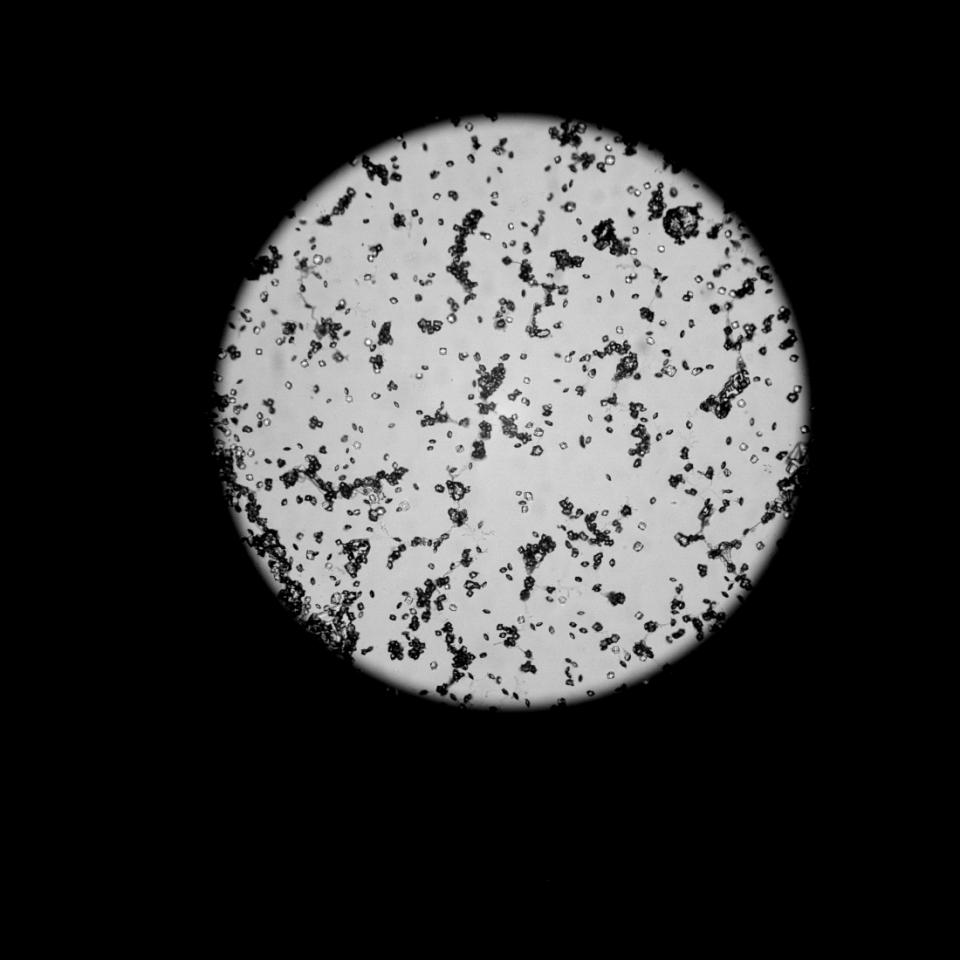crystal: (515, 588, 534, 602), (748, 454, 766, 468), (529, 444, 545, 459), (632, 540, 647, 554), (661, 366, 679, 377), (501, 254, 515, 268), (635, 519, 650, 532), (533, 428, 548, 441), (619, 503, 632, 518), (564, 200, 579, 213), (587, 414, 600, 427), (284, 380, 298, 392), (312, 254, 324, 268), (752, 540, 768, 550), (683, 461, 696, 473), (684, 419, 697, 431), (588, 367, 600, 380), (708, 303, 720, 316), (705, 280, 717, 293), (342, 328, 355, 340), (443, 430, 457, 441), (398, 501, 412, 512), (591, 621, 605, 632), (386, 294, 400, 305), (603, 143, 617, 154), (775, 450, 790, 460), (562, 297, 572, 312), (368, 588, 378, 603), (446, 190, 461, 200), (464, 120, 476, 132), (433, 483, 446, 494), (575, 218, 586, 231), (625, 207, 636, 220), (735, 399, 749, 409), (747, 415, 757, 429), (414, 372, 428, 382), (788, 392, 798, 406), (489, 190, 503, 200), (436, 217, 446, 231), (428, 170, 442, 180), (571, 547, 580, 562), (648, 495, 660, 506), (632, 457, 644, 468), (558, 441, 570, 452), (607, 558, 619, 569), (391, 400, 403, 411), (308, 576, 320, 587), (445, 313, 457, 324), (471, 352, 483, 363), (669, 188, 680, 200), (444, 159, 456, 170), (507, 150, 518, 162), (345, 185, 357, 196), (400, 139, 412, 150), (463, 692, 474, 704), (231, 404, 243, 415), (605, 154, 617, 165), (411, 480, 421, 493), (582, 272, 595, 282), (452, 301, 462, 314), (306, 234, 319, 244), (455, 445, 466, 456), (524, 491, 535, 502), (496, 319, 507, 330), (716, 285, 727, 296), (537, 207, 548, 218), (552, 154, 563, 165), (604, 426, 616, 436), (798, 423, 808, 435), (517, 614, 527, 626), (275, 458, 287, 468), (524, 648, 534, 660), (556, 594, 566, 606), (579, 530, 589, 542), (692, 366, 704, 376), (375, 506, 387, 516), (332, 353, 344, 363), (302, 300, 314, 310), (545, 193, 555, 205), (431, 190, 441, 202), (481, 580, 491, 592), (495, 165, 507, 175), (544, 165, 554, 177), (464, 155, 476, 165), (448, 692, 460, 702), (661, 348, 674, 357), (368, 509, 377, 522), (537, 328, 550, 337), (578, 561, 592, 569), (579, 434, 586, 450), (438, 346, 449, 356), (547, 584, 558, 594), (634, 610, 644, 621), (305, 550, 316, 560), (600, 508, 611, 518), (425, 443, 436, 453), (514, 441, 525, 451), (505, 300, 516, 310), (722, 301, 733, 311), (693, 274, 704, 284), (656, 244, 667, 254), (352, 440, 363, 450), (253, 326, 264, 336), (270, 278, 281, 288), (361, 273, 372, 283), (557, 284, 568, 294), (633, 258, 643, 269), (536, 214, 546, 225), (299, 216, 310, 226), (421, 142, 432, 152), (568, 164, 578, 175), (468, 570, 480, 579), (603, 414, 615, 423), (681, 360, 690, 372), (382, 452, 391, 464), (390, 172, 402, 181), (471, 131, 480, 143), (261, 290, 269, 303), (761, 445, 771, 455), (769, 421, 779, 431), (756, 430, 766, 440), (723, 468, 733, 478), (318, 445, 328, 455), (620, 660, 630, 670), (294, 495, 304, 505), (263, 484, 273, 494), (298, 359, 308, 369), (318, 359, 328, 369), (731, 320, 741, 330), (757, 346, 767, 356), (298, 283, 308, 293), (489, 198, 499, 208), (390, 271, 400, 281), (427, 271, 437, 281), (728, 582, 737, 593), (724, 436, 733, 447), (521, 506, 532, 515), (574, 575, 585, 584), (291, 541, 300, 552), (254, 480, 265, 489), (429, 662, 440, 671), (610, 633, 621, 642), (310, 384, 321, 393), (506, 222, 515, 233), (388, 154, 399, 163), (720, 590, 732, 598), (370, 392, 382, 400), (606, 670, 618, 678), (364, 526, 376, 534), (263, 478, 275, 486), (447, 604, 459, 612), (506, 562, 514, 574), (564, 540, 572, 552), (241, 425, 253, 433), (762, 288, 774, 296), (542, 410, 554, 418), (498, 351, 511, 358), (722, 489, 735, 496), (669, 609, 682, 616), (605, 472, 614, 482), (738, 443, 748, 452), (421, 364, 431, 373), (515, 545, 525, 554), (482, 633, 492, 642), (434, 629, 443, 639), (465, 590, 475, 599), (666, 428, 676, 437), (654, 371, 664, 380), (244, 472, 253, 482), (495, 311, 505, 320), (788, 353, 798, 362), (356, 602, 366, 611), (254, 346, 263, 356), (519, 220, 528, 230), (635, 188, 644, 198), (566, 179, 575, 189), (586, 436, 594, 447), (548, 625, 556, 636), (282, 497, 290, 508), (561, 387, 572, 395), (512, 412, 520, 423), (415, 408, 426, 416), (523, 376, 531, 387), (418, 688, 429, 696), (264, 417, 272, 428), (725, 229, 733, 240), (448, 466, 459, 474), (342, 463, 353, 471), (545, 272, 556, 280), (531, 226, 539, 237), (544, 420, 555, 428), (339, 436, 351, 443), (552, 377, 564, 384), (412, 294, 424, 301), (390, 162, 402, 169), (352, 508, 361, 517), (522, 698, 531, 707), (703, 497, 712, 506), (275, 338, 284, 347), (427, 561, 436, 570), (364, 192, 373, 201), (499, 137, 508, 146), (693, 183, 702, 192), (720, 460, 728, 470), (515, 491, 525, 499), (569, 631, 577, 641), (612, 645, 620, 655), (624, 652, 632, 662), (666, 635, 674, 645), (304, 494, 314, 502), (344, 523, 354, 531), (296, 564, 306, 572), (528, 622, 536, 632), (794, 384, 802, 394), (656, 433, 664, 443), (717, 506, 727, 514), (519, 351, 527, 361), (629, 292, 639, 300), (644, 338, 654, 346), (658, 320, 668, 328), (660, 276, 670, 284), (629, 247, 639, 255), (478, 520, 486, 530), (388, 422, 398, 430), (354, 578, 362, 588), (628, 272, 638, 280), (367, 254, 375, 264), (388, 201, 396, 211), (229, 397, 239, 405), (594, 136, 604, 144), (391, 537, 404, 543), (578, 627, 589, 634), (567, 622, 578, 629), (576, 610, 587, 617), (705, 363, 716, 370), (640, 416, 651, 423), (333, 538, 344, 545), (643, 181, 650, 192), (421, 235, 428, 246), (723, 574, 731, 583), (532, 531, 540, 540), (571, 661, 580, 669), (669, 618, 677, 627), (498, 566, 507, 574), (479, 651, 487, 660), (405, 597, 413, 606), (554, 352, 563, 360), (487, 672, 496, 680), (512, 691, 520, 700), (388, 614, 397, 622), (256, 420, 264, 429), (256, 411, 264, 420), (282, 445, 291, 453), (506, 316, 515, 324), (498, 297, 506, 306), (614, 325, 626, 331), (764, 378, 772, 387), (632, 226, 640, 235), (347, 456, 356, 464), (364, 338, 372, 347), (292, 250, 301, 258), (475, 544, 482, 554), (679, 329, 686, 339), (688, 318, 695, 328), (458, 352, 465, 362), (424, 280, 434, 287), (362, 217, 372, 224), (294, 229, 304, 236), (228, 387, 238, 394), (518, 500, 529, 506), (520, 288, 526, 299), (546, 596, 554, 604), (346, 509, 354, 517), (312, 550, 320, 558), (325, 562, 333, 570), (409, 608, 417, 616), (564, 355, 572, 363), (634, 372, 642, 380), (264, 457, 272, 465), (329, 340, 337, 348), (326, 397, 334, 405), (509, 240, 517, 248), (411, 208, 419, 216), (449, 562, 457, 570), (344, 306, 352, 314), (473, 142, 481, 150), (564, 657, 573, 664), (505, 575, 514, 582), (395, 601, 402, 610), (651, 411, 658, 420), (662, 357, 669, 366), (689, 487, 696, 496), (357, 611, 364, 620), (335, 579, 342, 588), (370, 344, 377, 353), (628, 185, 635, 194), (524, 399, 531, 408), (668, 576, 678, 582), (577, 674, 583, 684), (311, 497, 317, 507), (339, 474, 349, 480), (476, 314, 482, 324), (608, 287, 614, 297), (722, 264, 732, 270), (468, 462, 474, 472), (344, 445, 350, 455), (440, 533, 450, 539), (344, 388, 351, 396), (566, 679, 574, 686), (580, 364, 587, 372), (600, 400, 608, 407), (501, 688, 509, 695), (333, 464, 340, 472), (625, 276, 632, 284), (375, 243, 383, 250), (372, 250, 379, 258), (740, 496, 745, 507), (586, 691, 595, 697), (496, 676, 502, 685), (384, 498, 393, 504), (394, 487, 403, 493), (362, 498, 371, 504), (645, 330, 654, 336), (753, 376, 762, 382), (326, 552, 332, 561), (295, 532, 304, 538), (370, 320, 376, 329), (351, 423, 357, 432), (358, 425, 364, 434), (484, 232, 490, 241), (418, 217, 424, 226), (395, 507, 404, 513), (597, 162, 606, 168), (323, 279, 328, 289), (581, 232, 586, 242), (345, 396, 352, 403), (468, 393, 475, 400), (526, 420, 533, 427), (499, 307, 506, 314), (448, 298, 455, 305), (542, 404, 549, 411), (561, 184, 568, 191), (498, 632, 506, 638), (496, 624, 504, 630), (468, 671, 474, 679), (402, 612, 408, 620), (405, 634, 411, 642), (458, 634, 464, 642), (297, 442, 303, 450), (602, 335, 610, 341), (502, 242, 508, 250), (314, 272, 322, 278), (482, 609, 491, 614), (596, 295, 601, 304), (428, 438, 437, 443), (622, 237, 631, 242), (521, 396, 526, 405), (315, 602, 321, 609), (462, 352, 469, 358), (412, 274, 418, 281), (440, 401, 445, 409), (400, 631, 410, 635), (486, 176, 491, 184), (444, 584, 450, 590), (685, 489, 691, 495), (536, 622, 545, 626), (569, 350, 576, 355), (418, 279, 423, 286), (657, 181, 662, 187), (547, 402, 552, 408), (311, 244, 317, 249)
not_crystal: (446, 260, 482, 300), (718, 368, 745, 418), (451, 208, 476, 262), (317, 196, 350, 225), (363, 156, 388, 186), (482, 367, 506, 395), (319, 481, 354, 499), (313, 320, 341, 340), (524, 542, 540, 576), (648, 190, 664, 219), (416, 581, 432, 609), (415, 318, 442, 334), (304, 455, 320, 481), (280, 471, 302, 488), (454, 649, 471, 667), (472, 439, 488, 458), (478, 419, 492, 440), (378, 322, 391, 344), (444, 621, 455, 647), (389, 640, 403, 660), (696, 504, 712, 521), (427, 411, 447, 423), (476, 402, 495, 414), (608, 593, 626, 604), (308, 416, 324, 428), (394, 212, 406, 228), (687, 533, 708, 542), (281, 322, 297, 333), (669, 598, 685, 609)
